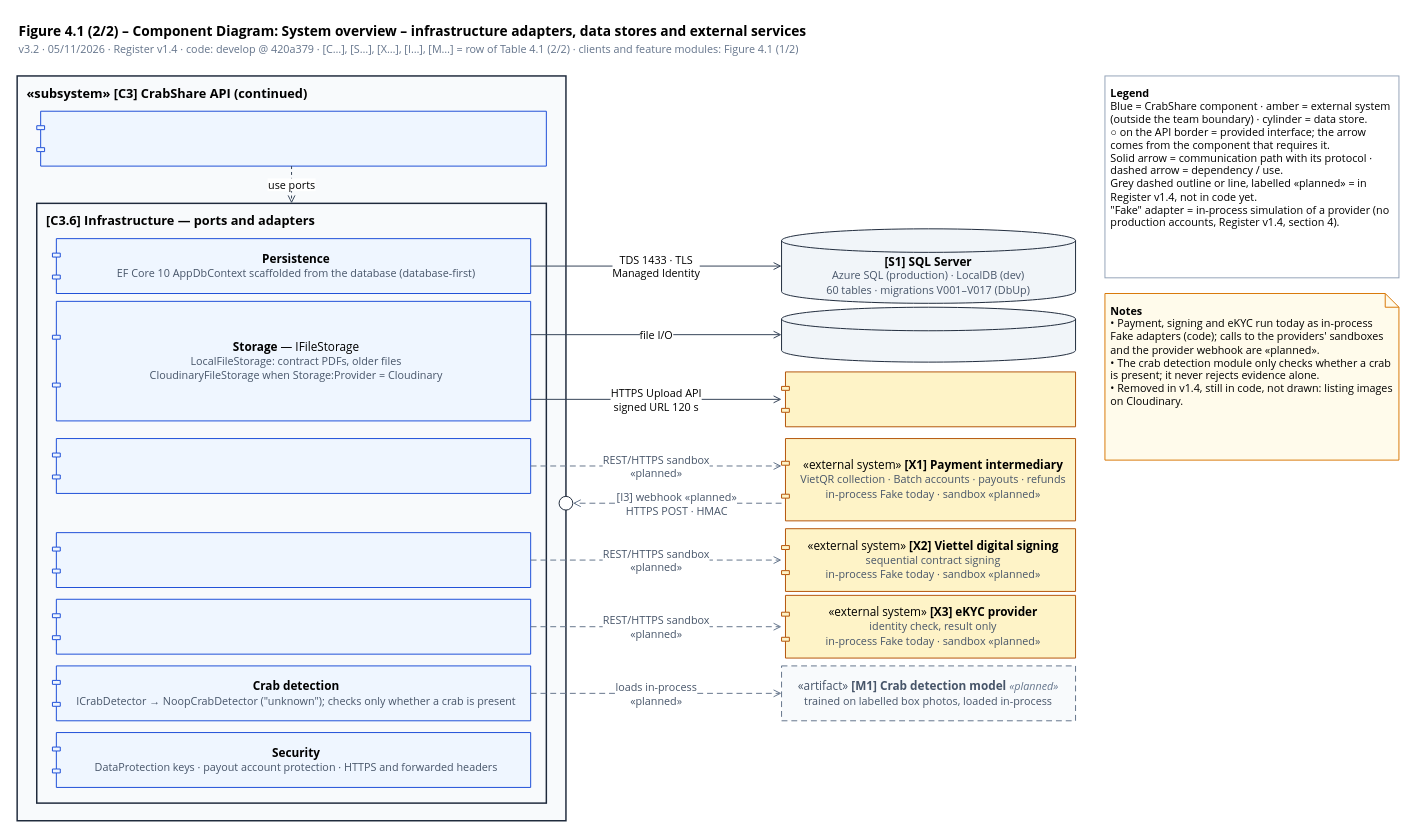
The diagram is 1417 pixels wide and 838 high, and some of its shapes have lost their labels. The shapes that lost their labels are listed below. From the top down, each one's centre as x and y in pixels, then its label:
At (x=291, y=138): "[C3.2] Feature modules — 19 modules, Figure 4.1 (1/2)".
At (x=928, y=334): "[S2] File storage /home/data/storage (App Service disk)".
At (x=928, y=399): "«external system» [X4] Cloudinary authenticated image storage (evidence photos)".
At (x=291, y=465): "Payments IPaymentGateway · IBatchAccountProvisioner → FakePaymentGateway".
At (x=291, y=560): "Signing IDigitalSigningService → FakeSigningService".
At (x=291, y=626): "eKYC IEkycProvider · IBankNameMatcher → Fake adapters".
